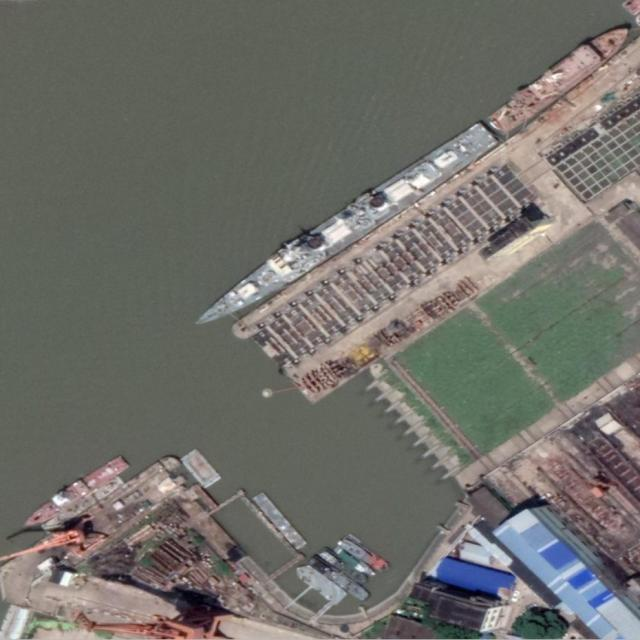Destroyer: (189, 120, 498, 337)
Other Ship: (18, 452, 131, 532), (308, 553, 371, 604), (339, 533, 392, 577), (317, 545, 368, 586), (332, 544, 377, 582)
Other Warship: (482, 17, 637, 140)
